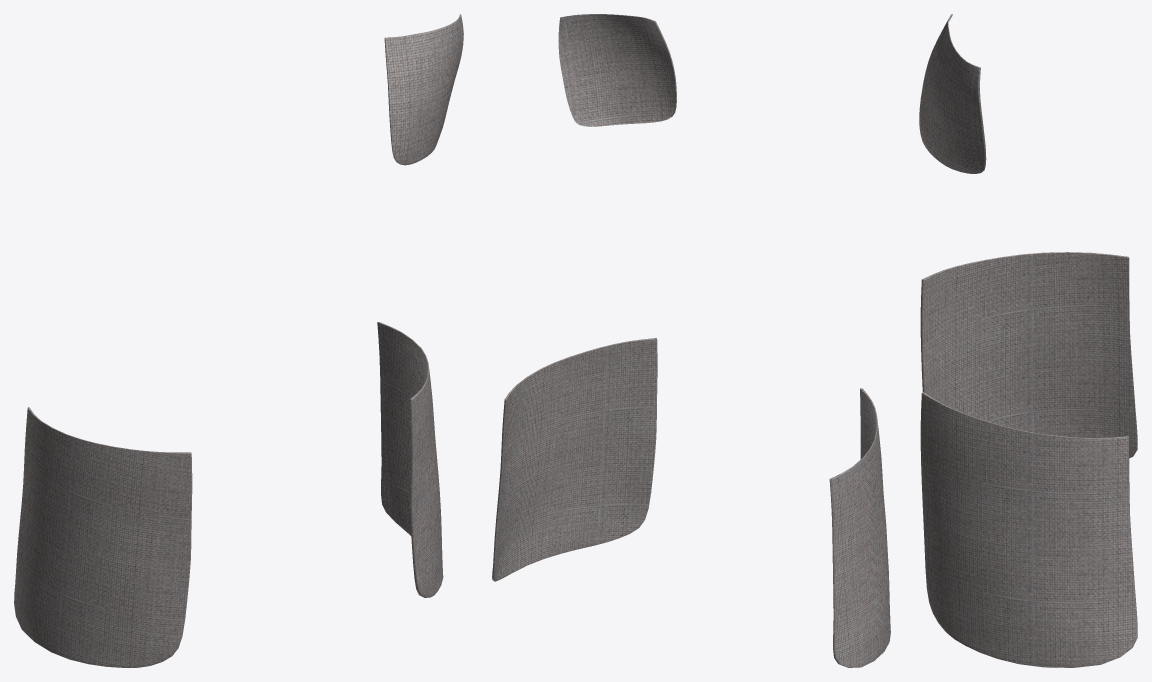
File: Patch_Pockets.glb
3 renders of one model, left to right at view 1: azimuth 30°, elevation 25°; view 2: azimuth 150°, elevation 25°; view 3: azimuth 270°, elevation 25°, orthographic. The views are drawn at different scales.
Visible parts, largest first — view 1: Patch_Pockets; view 2: Patch_Pockets; view 3: Patch_Pockets.
Boxes of the visible parts, x1,y1,x2,y2 form: Patch_Pockets: (14, 14, 463, 667); Patch_Pockets: (492, 14, 890, 667); Patch_Pockets: (919, 14, 1137, 667).
Size of the model in its own units: 0.0486 by 0.0684 by 0.0224.
Materials: 1 (1 with a texture image).
